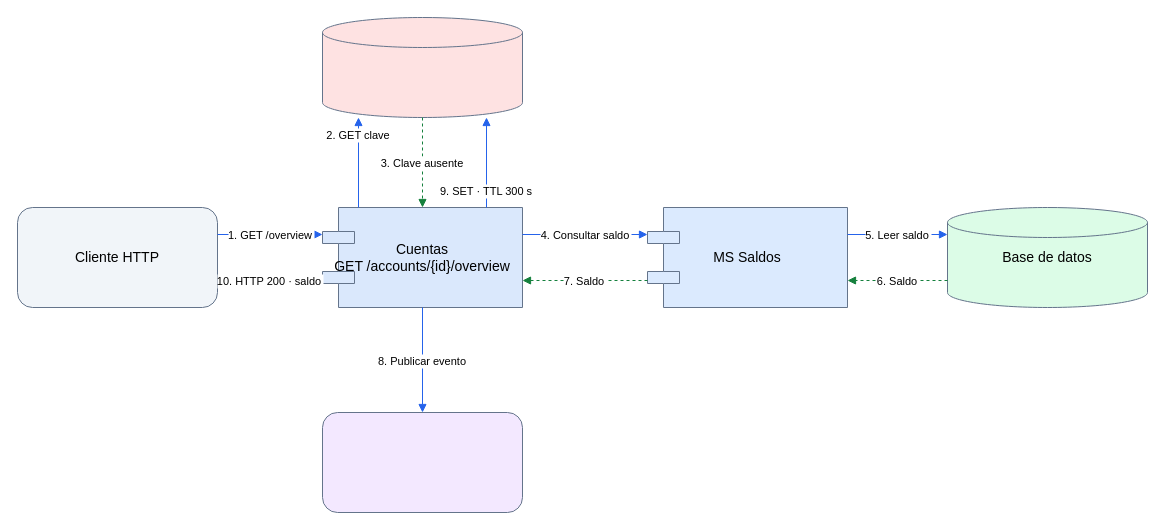
This 1165x530 diagram has some shape labels left out. Each missing label, with the centre of its shape:
"Kafka account.overview.loaded" goes at pixel 422 462.
"Redis" goes at pixel 422 67.
